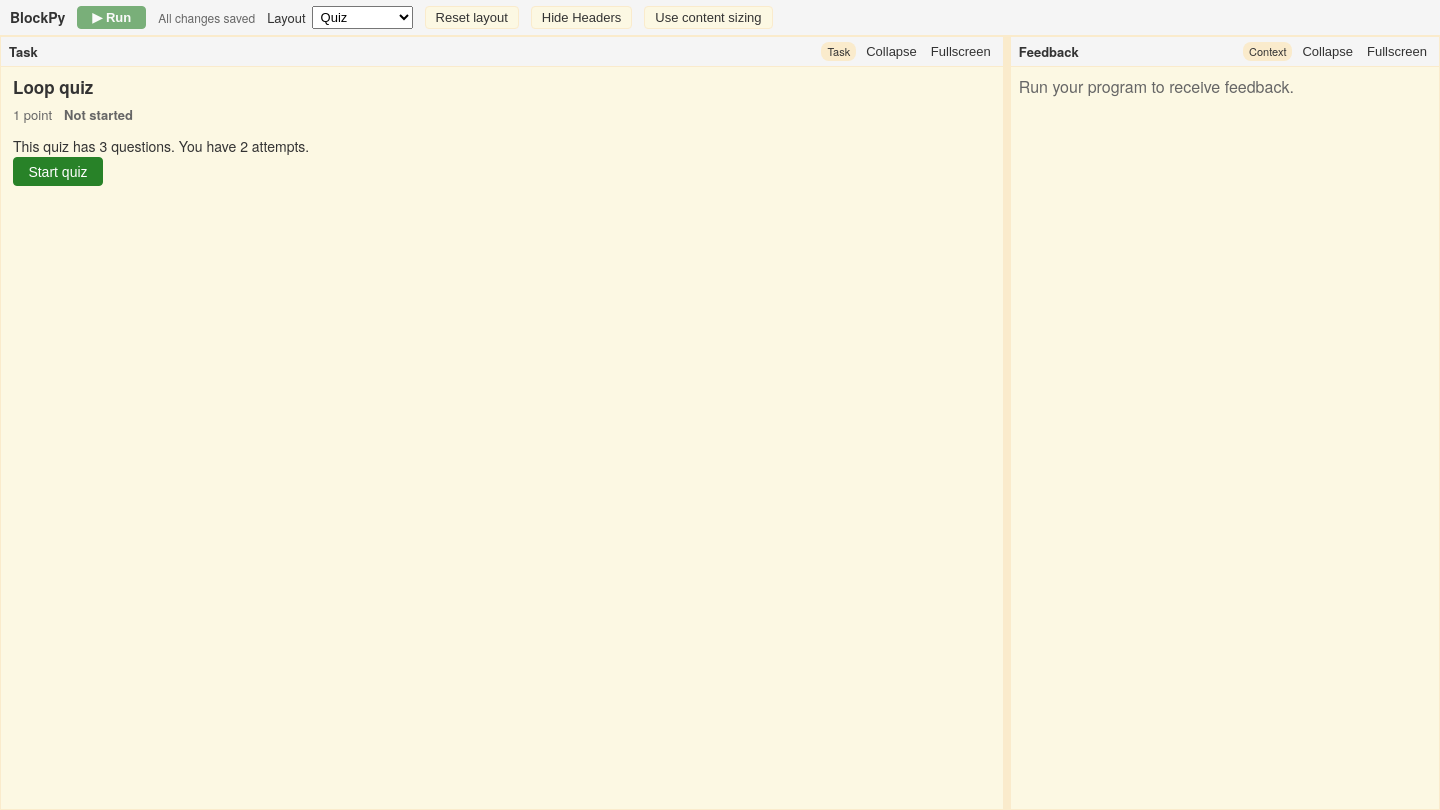
it: QuizTask › runs a full attempt: start, answer, submit, graded feedback
Expected: the text "This quiz has 3 questions. You have 2 attempts." is shown, [13,136,309,156]
Click the button "Start quiz" at (58, 172), box [13,157,103,186]
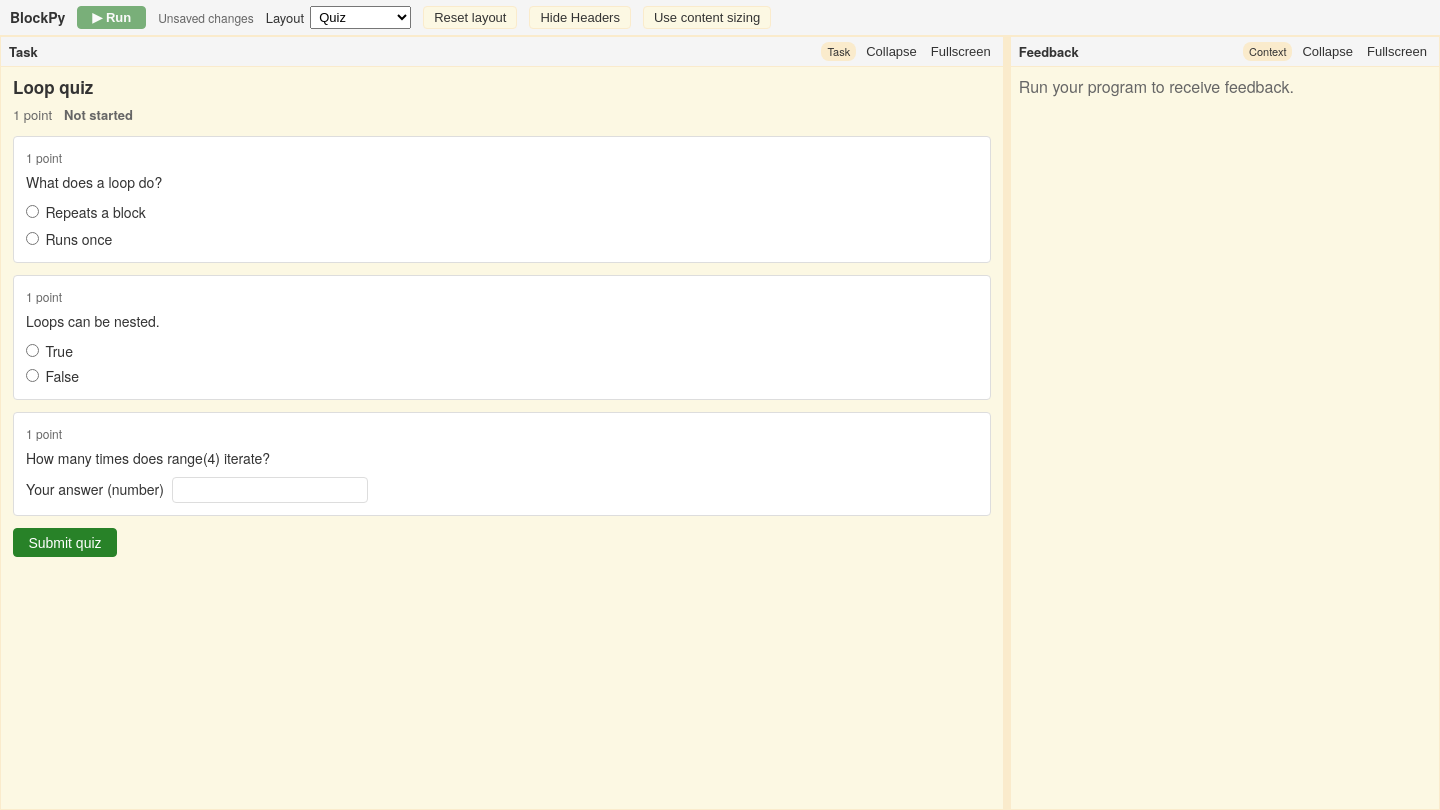
Click the radio button labelled "Repeats a block" at (32, 212), box [26,205,39,218]
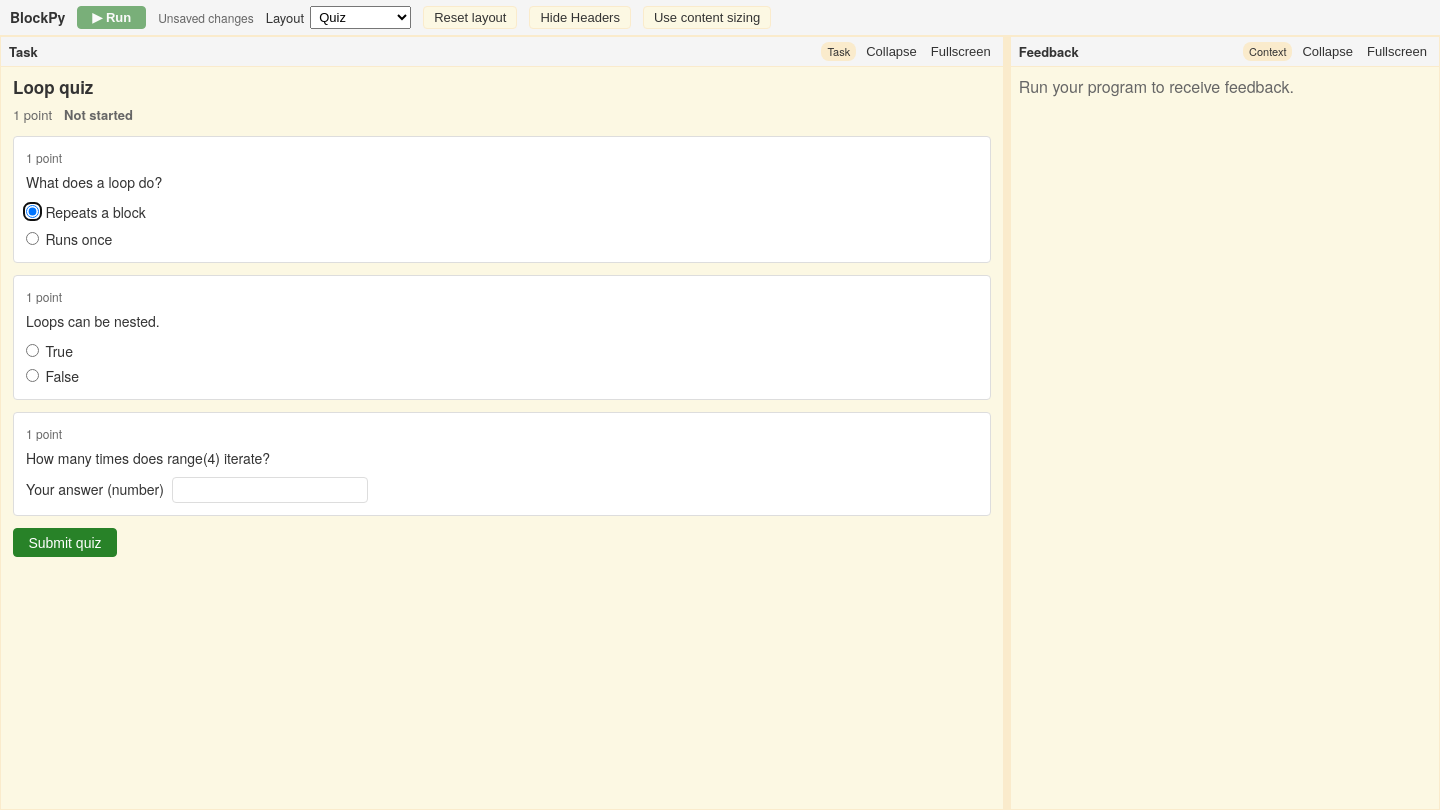
Click the radio button labelled "True" at (32, 350), box [26,344,39,357]
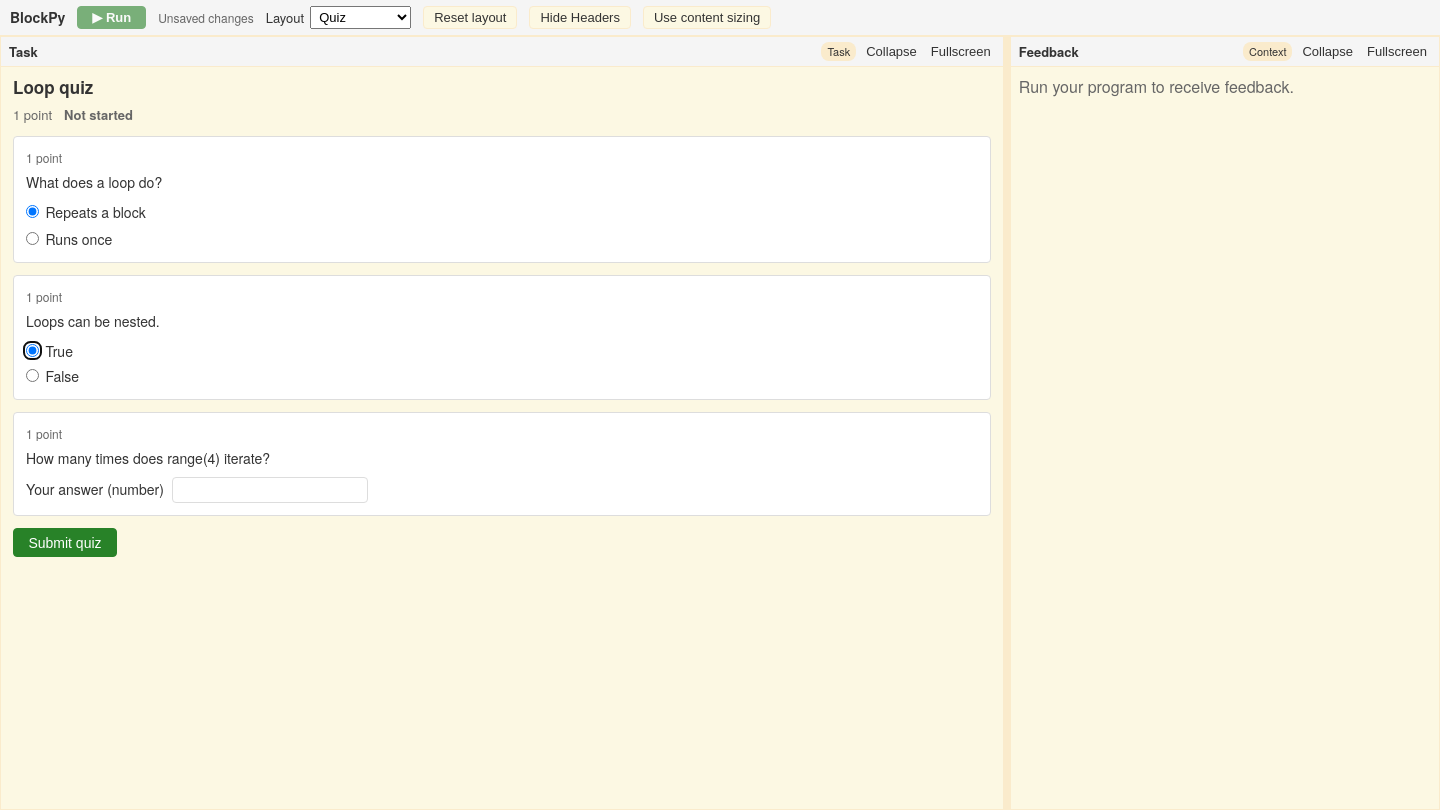
Type "4" into the number field labelled "Your answer (number)" at (270, 490), box [172,477,368,503]
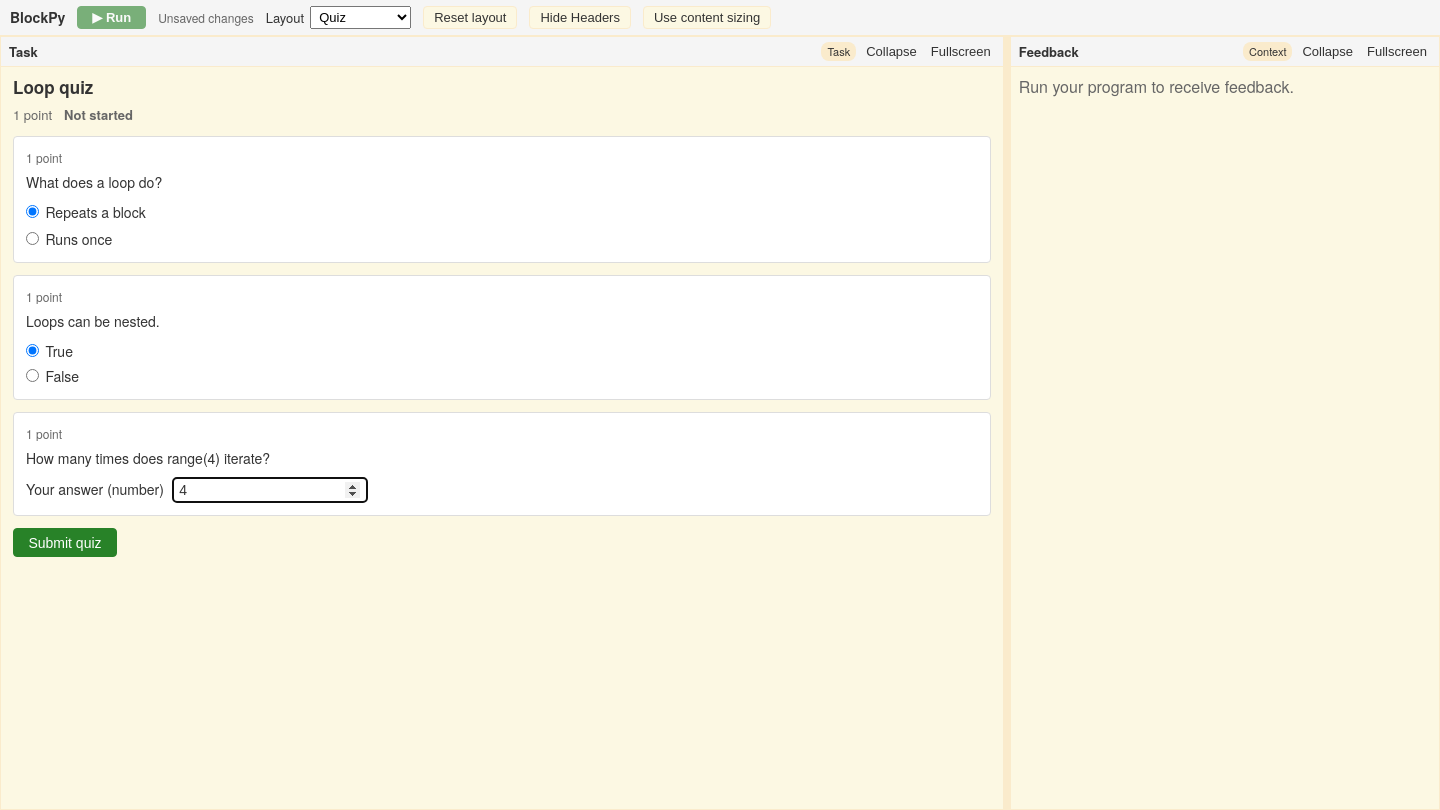
Click the button "Submit quiz" at (65, 543), box [13,528,117,557]
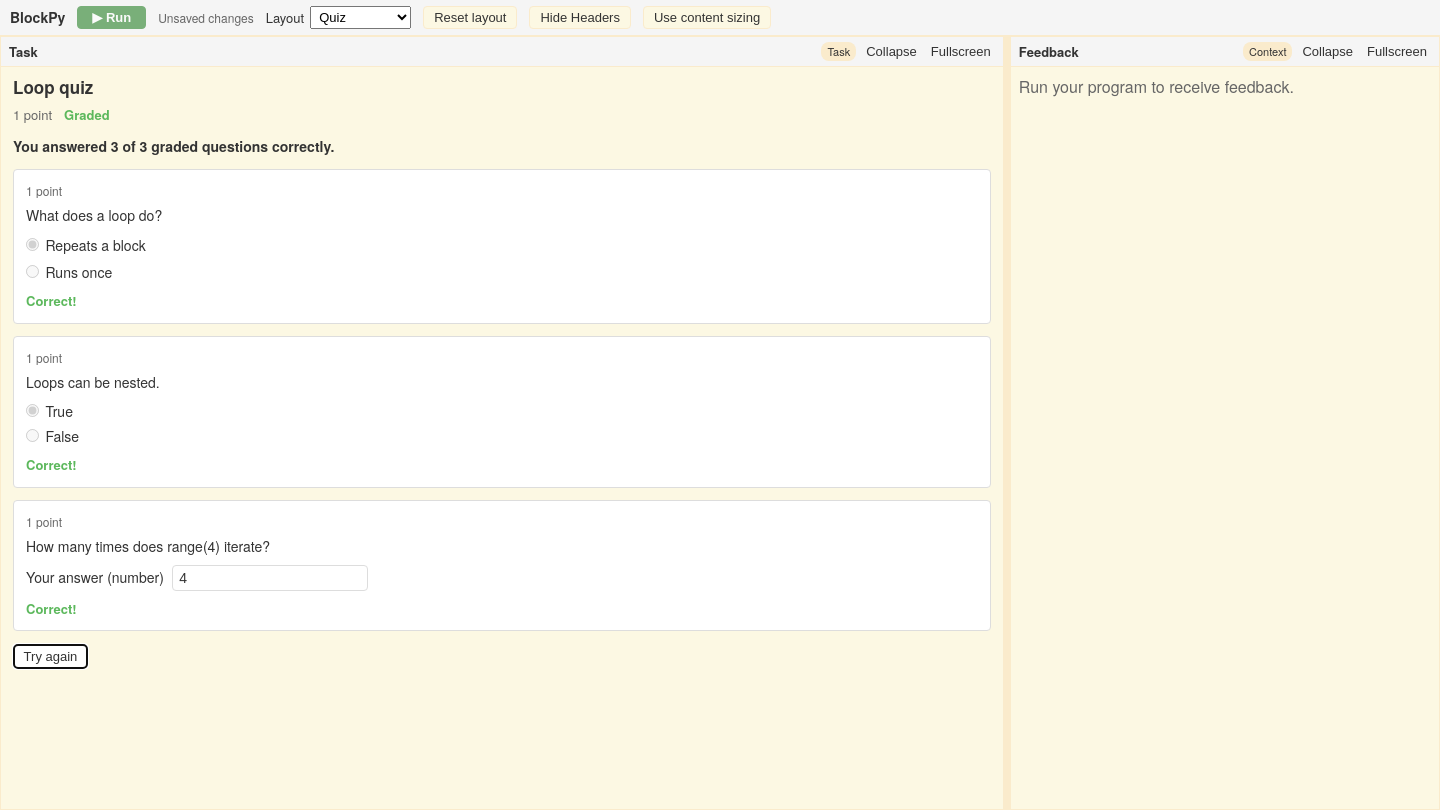
Expected: the text "You answered 3 of 3 graded questions correctly." is shown, [13,136,334,156]
Expected: the text "Correct!" is shown 3 times, [26,291,77,310]; [26,455,77,474]; [26,599,77,618]
Expected: the button "Try again" is shown, [13,644,88,670]
